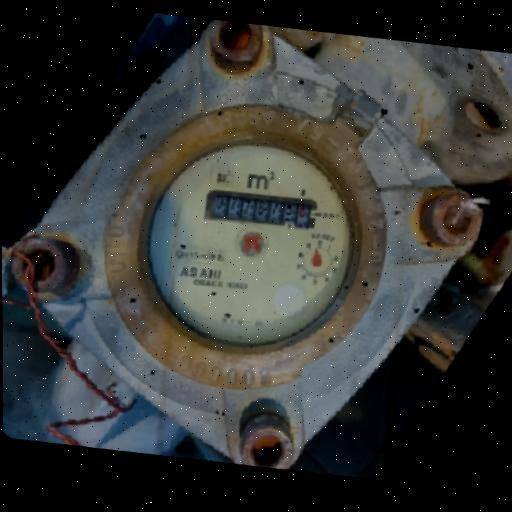0: (212, 192, 227, 215)
6: (255, 197, 268, 218)
7: (227, 195, 240, 216), (269, 199, 282, 220), (242, 196, 254, 218)
8: (295, 202, 308, 228), (283, 200, 296, 222)
border_water_meter_number: (202, 181, 320, 236)
